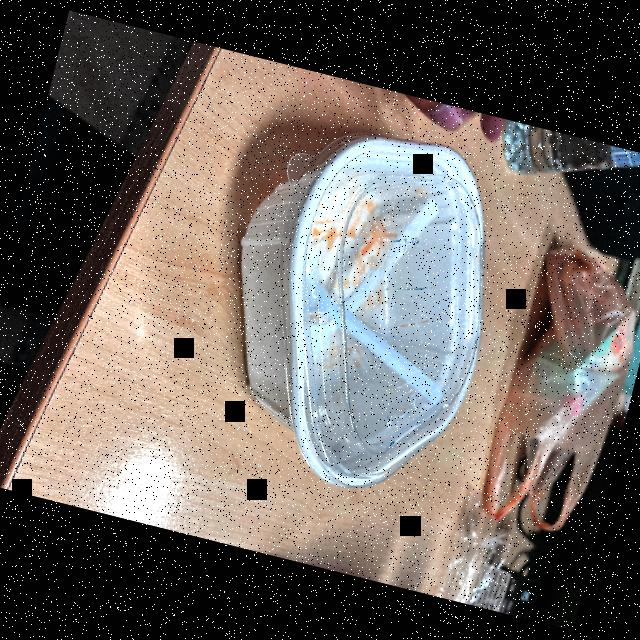plastic_box: (170, 94, 540, 528)
